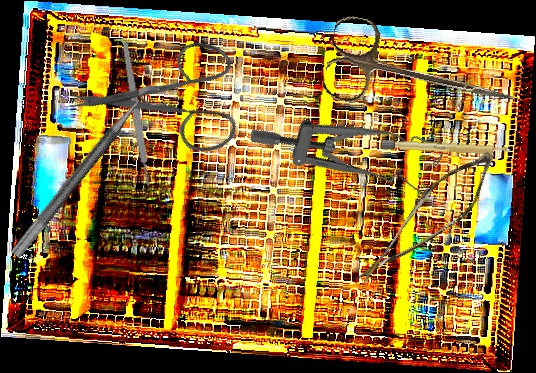Fixation Ring: (9, 79, 173, 271)
Iris Scissors: (61, 1, 271, 207), (320, 13, 524, 136)
Micro Scissor: (353, 130, 504, 314)
Scalpel Handle: (121, 41, 152, 187), (379, 139, 514, 157)
Speculum: (247, 70, 449, 223)
